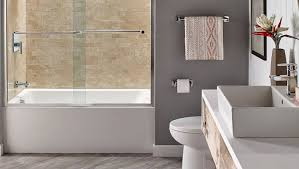bathub: (2, 84, 155, 161)
